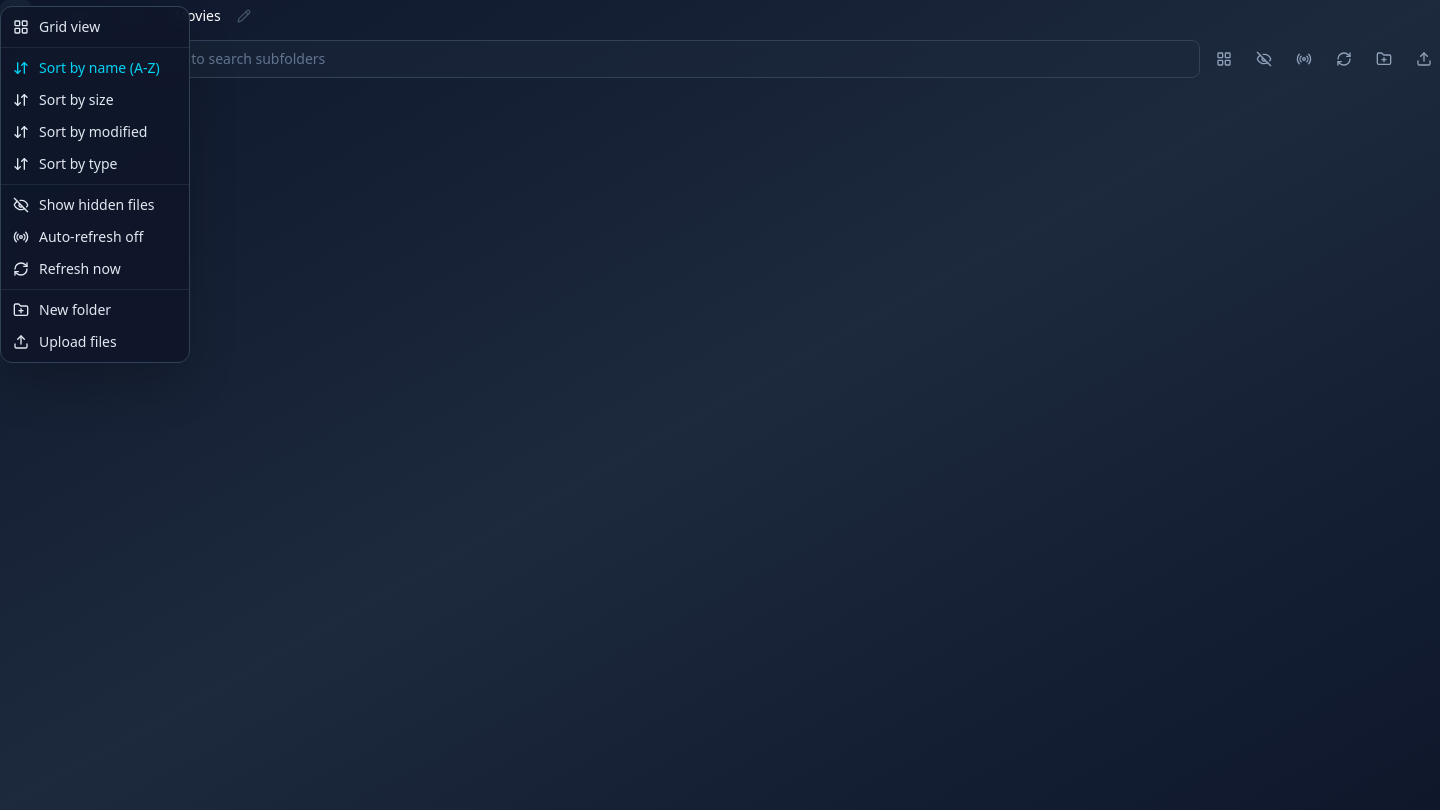
Test: ExplorerToolbar - the phone overflow menu › the click that opens the menu does not also close it; the next outside click does
Earlier steps of the test are not shown.
expect the button "Refresh now" is shown: met, box [1, 253, 189, 285]
Click the element that starts with "mnt".
click(720, 405)  # box [0, 0, 1439, 809]
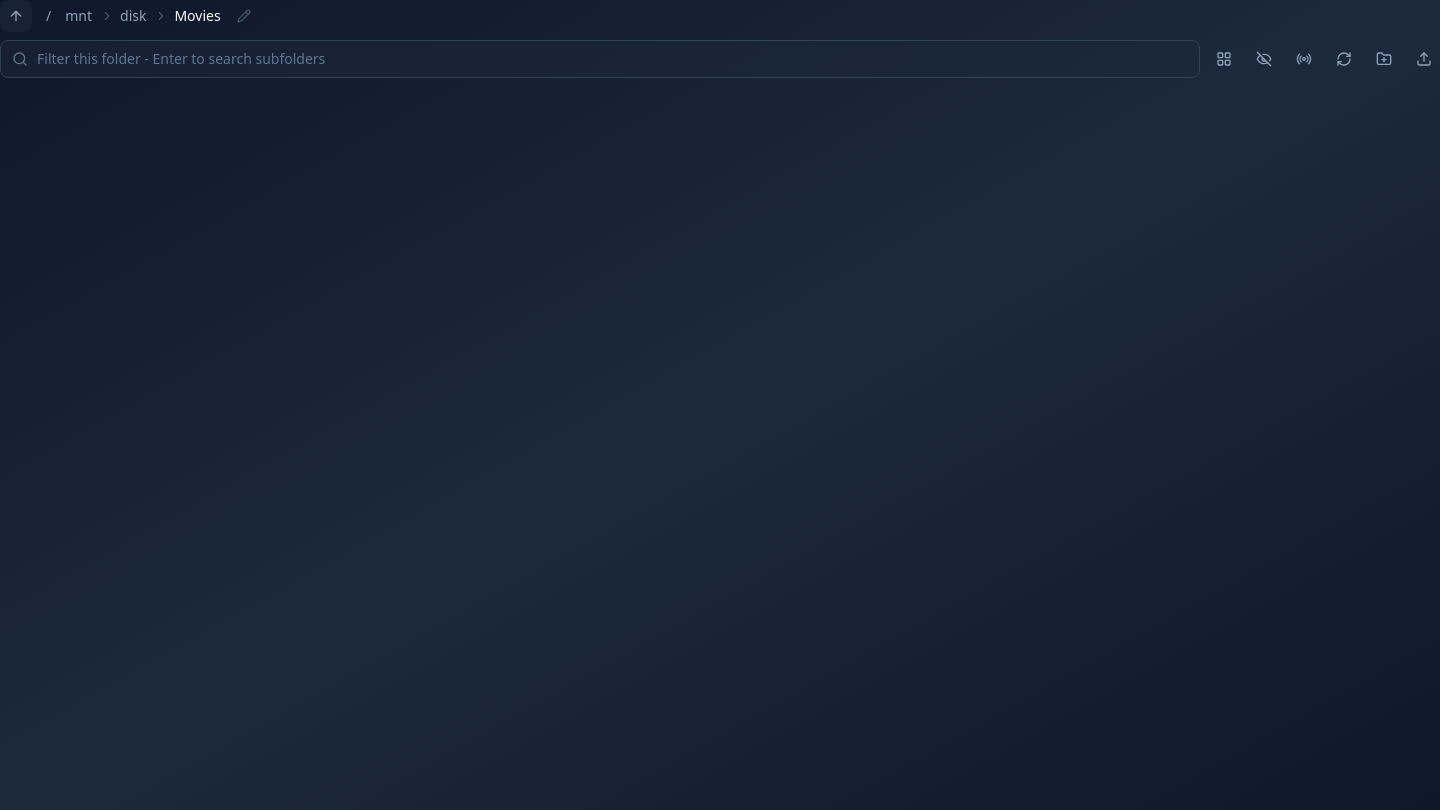
expect the button "Refresh now" is gone: met
